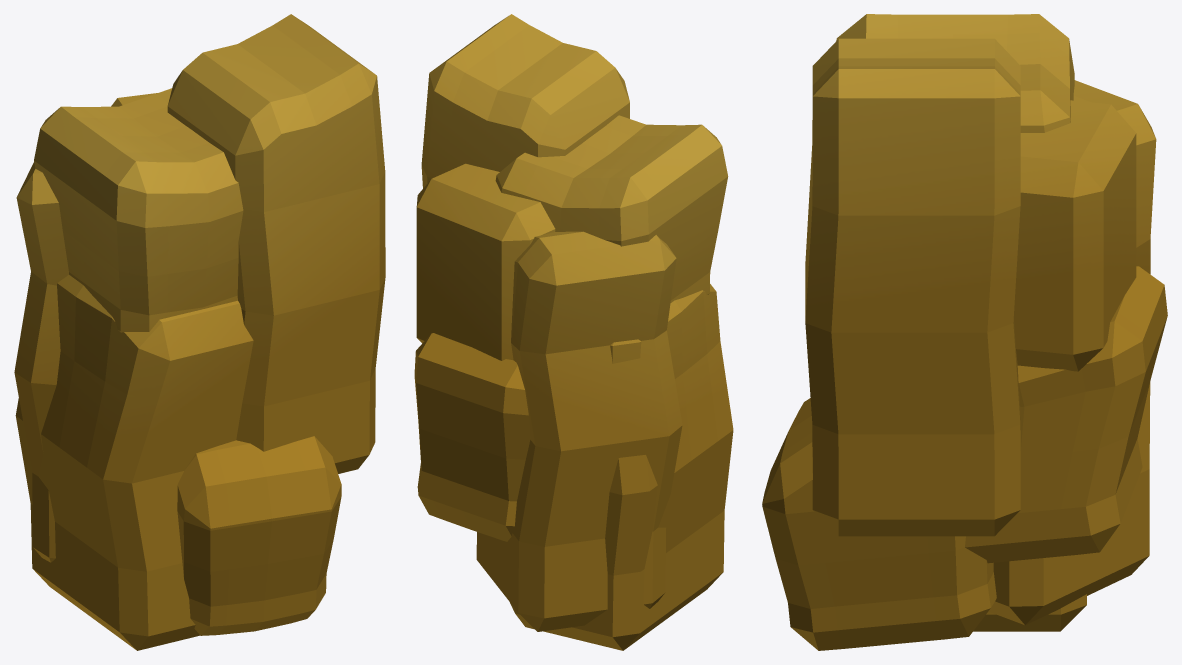
File: Cliff01.fbx
3 renders of one model, left to right at view 1: azimuth 30°, elevation 25°; view 2: azimuth 150°, elevation 25°; view 3: azimuth 270°, elevation 25°, orthographic. The views are drawn at different scales.
Visible parts, largest first — view 1: Cliff01_Baked; view 2: Cliff01_Baked; view 3: Cliff01_Baked.
Part boxes in pixels (left/top/right/bottom): Cliff01_Baked: left=14, top=14, right=385, bottom=650; Cliff01_Baked: left=414, top=14, right=733, bottom=650; Cliff01_Baked: left=762, top=14, right=1167, bottom=650.
Size of the model in its own units: 1372 by 2529 by 1489.
